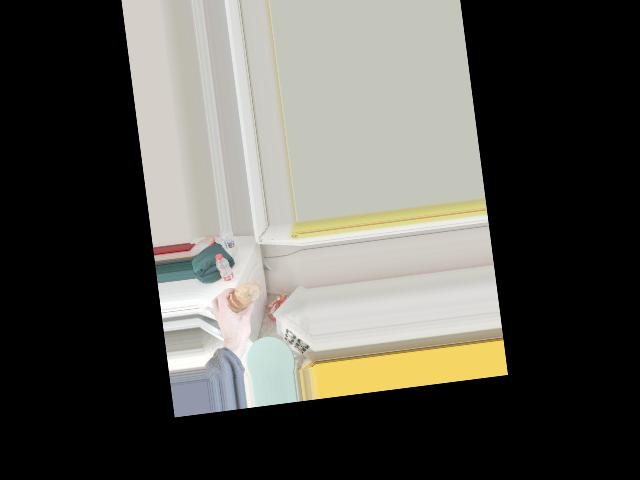sweet_potato: (223, 280, 257, 314)
